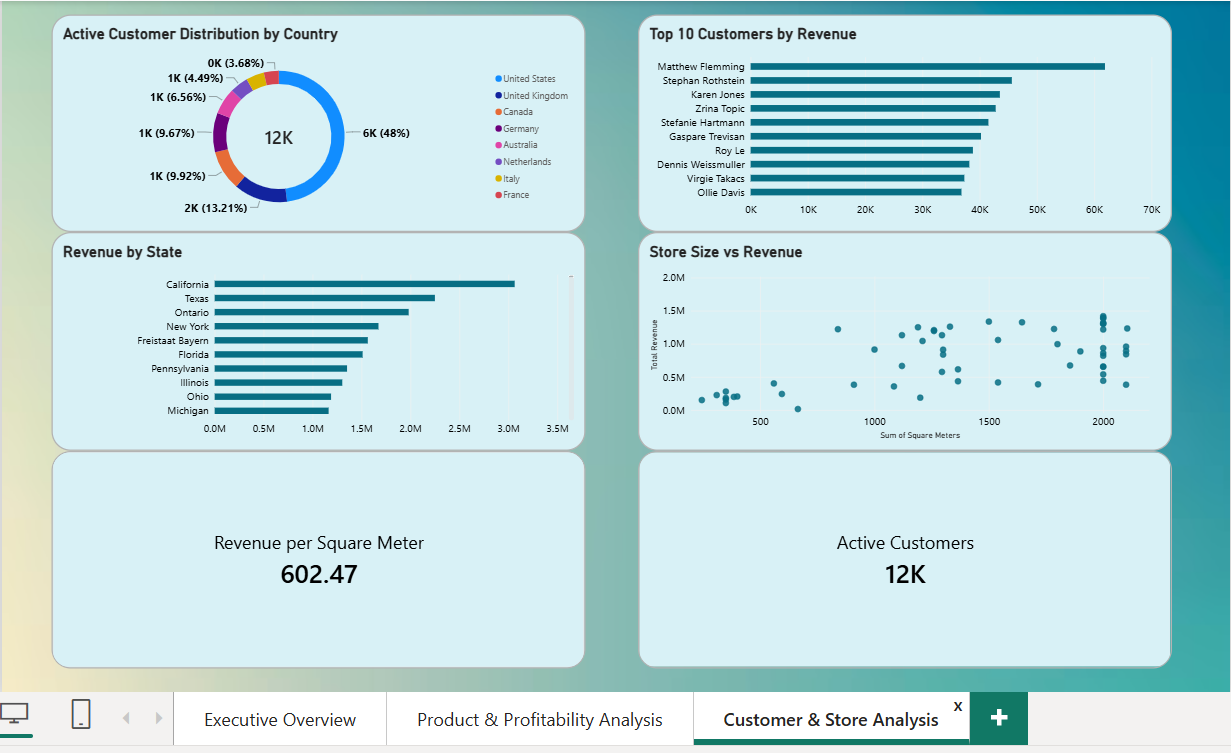

Layout of this report page (visuals, bound fields, positions):
{"tool":"powerbi","page":{"name":"Customer & Store Analysis","canvas":[1920,1080],"ordinal":2},"visuals":[{"type":"clusteredBarChart","title":"Top 10 Customers by Revenue","fields":{"Category":["Customer_cleaned.Name"],"Y":["Sales_cleaned.Total Revenue"]},"box":[994.1,21.1,834.6,339.9],"z":0},{"type":"clusteredBarChart","title":"Revenue by State","fields":{"Category":["Customer_cleaned.State"],"Y":["Sales_cleaned.Total Revenue"]},"box":[77.4,361.1,834.6,342.3],"z":1000},{"type":"scatterChart","title":"Store Size vs Revenue","fields":{"Category":["Stores_cleaned.StoreKey"],"X":["Sum(Stores_cleaned.Square Meters)"],"Y":["Sales_cleaned.Total Revenue"]},"box":[994.1,361.1,834.6,342.3],"z":2000},{"type":"cardVisual","fields":{"Data":["Customer_cleaned.Revenue per Square Meter"]},"box":[77.4,703.3,834.6,339.9],"z":3000},{"type":"donutChart","title":"Active Customer Distribution by Country","fields":{"Category":["Customer_cleaned.Country"],"Y":["Customer_cleaned.Total Customers"]},"box":[77.4,21.1,834.6,339.9],"z":4000},{"type":"cardVisual","fields":{"Data":["Customer_cleaned.Total Customers"]},"box":[994.1,703.3,834.6,339.9],"z":5000}]}

Visuals, with their boxes on the page's 1920x1080 design canvas (x1, y1, x2, y2). These are canvas units, not pixel positions in the 1231x753 screenshot, which may show the page scaled, cropped or inside an application window:
"Top 10 Customers by Revenue" clusteredBarChart: 994:21:1829:361
"Revenue by State" clusteredBarChart: 77:361:912:703
"Store Size vs Revenue" scatterChart: 994:361:1829:703
cardVisual - Customer_cleaned.Revenue per Square Meter: 77:703:912:1043
"Active Customer Distribution by Country" donutChart: 77:21:912:361
cardVisual - Customer_cleaned.Total Customers: 994:703:1829:1043
